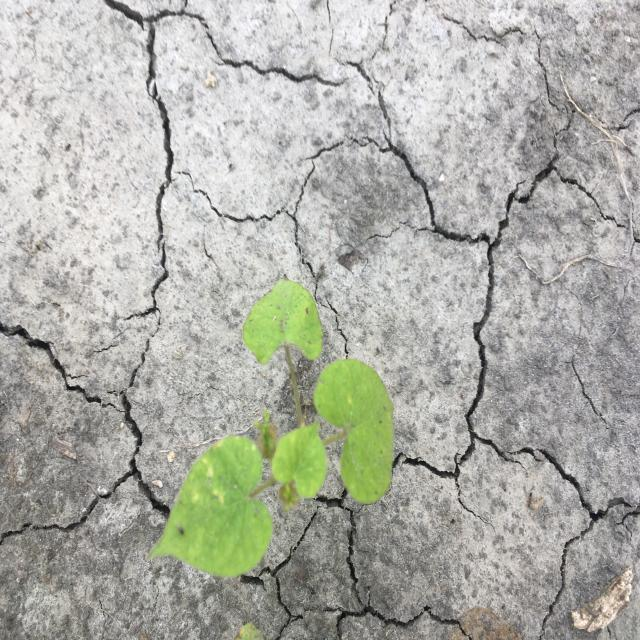MorningGlory: (145, 272, 396, 580)
